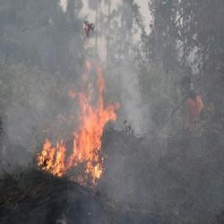fire: (42, 110, 108, 193)
smoke: (110, 3, 173, 142)
